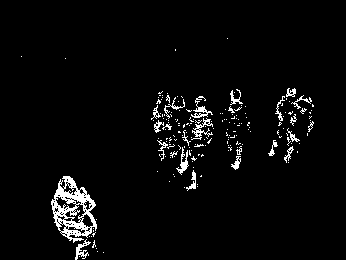person: (49, 172, 102, 260), (182, 94, 216, 192), (221, 87, 251, 172), (165, 92, 194, 174), (269, 87, 301, 157), (285, 93, 316, 165), (150, 87, 176, 160)
